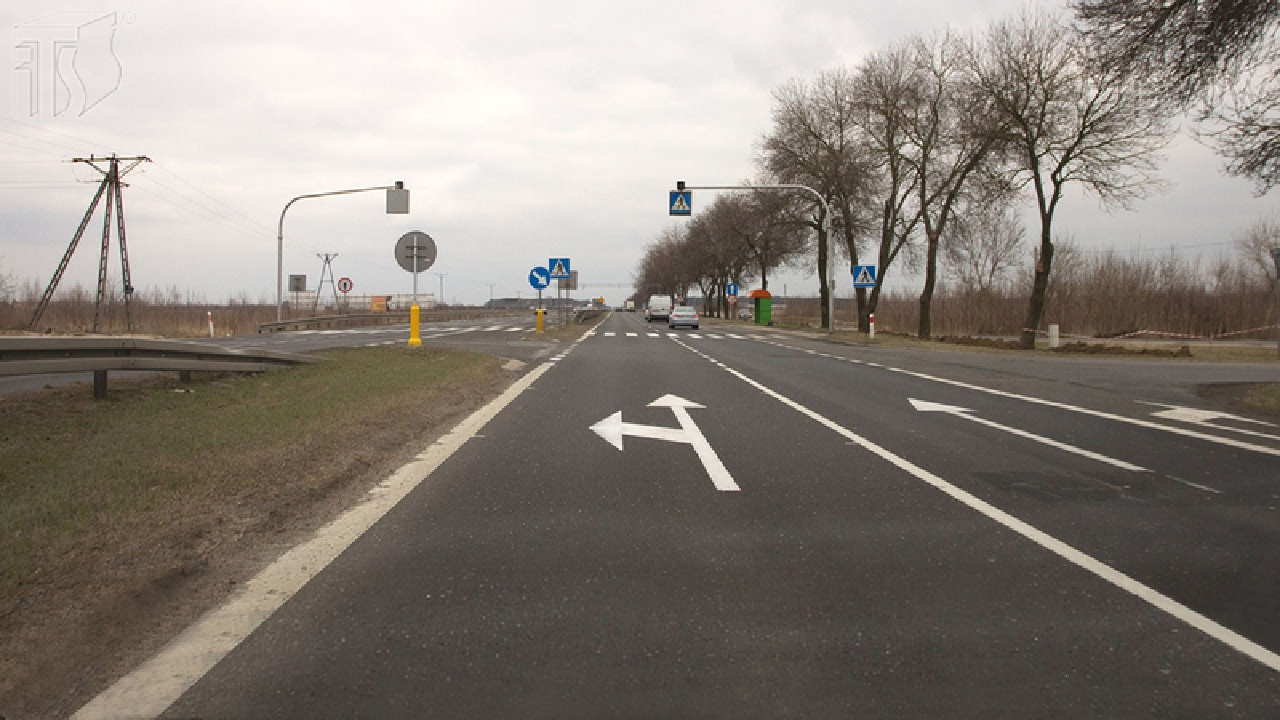C9: (529, 267, 550, 290)
